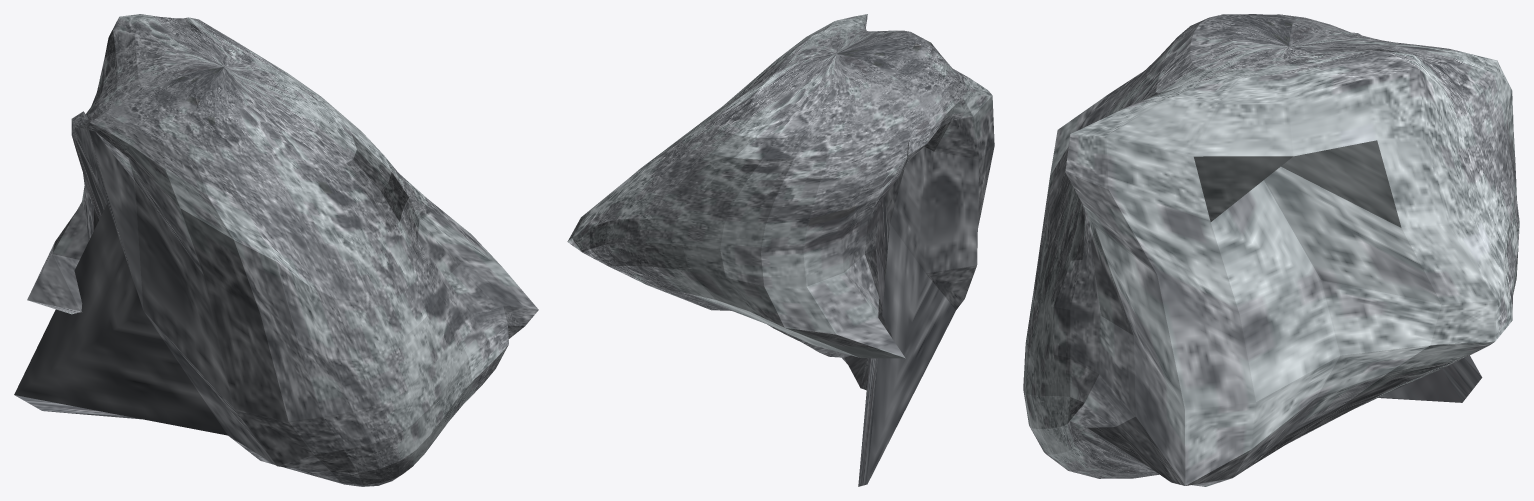
The model's file is rock5.glb.
3 views of the same model, side by side, from view 1: azimuth 30°, elevation 25°; view 2: azimuth 150°, elevation 25°; view 3: azimuth 270°, elevation 25° (orthographic). The views are drawn at different scales.
Parts seen in each view (by area): view 1: Sphere; view 2: Sphere; view 3: Sphere.
Part boxes in pixels (x1=…): Sphere: x1=14, y1=14, x2=538, y2=486; Sphere: x1=567, y1=14, x2=994, y2=486; Sphere: x1=1023, y1=14, x2=1519, y2=486.
Size of the model in its own units: 23.07 by 21 by 22.64.
Materials: 1 (1 with a texture image).
